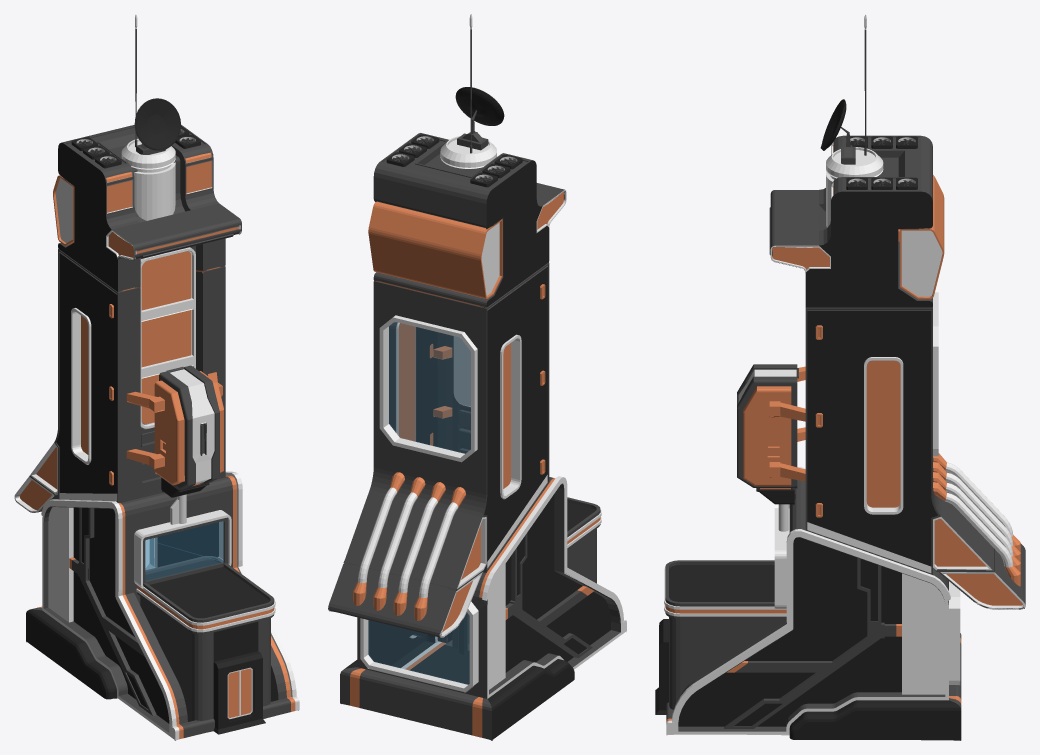
Rendered from Science building.fbx.
3 views of the same model, side by side, from view 1: azimuth 30°, elevation 25°; view 2: azimuth 150°, elevation 25°; view 3: azimuth 270°, elevation 25° (orthographic). The views are drawn at different scales.
Parts seen in each view (by area): view 1: Cube.013, Cube.012, Cube.001, Cube.020, door.006; view 2: Cube.013, Cube.020, Plane.001, Cube.001, Cube.012; view 3: Cube.013, Cube.012, Cube, Plane.001, Cube.020.
Part boxes in pixels (x1,y1,x2,y2): Cube.013: [14, 14, 299, 740]; Cube.012: [136, 556, 275, 734]; Cube.001: [69, 508, 156, 715]; Cube.020: [53, 175, 74, 245]; door.006: [227, 667, 252, 719]; Cube.013: [328, 14, 626, 740]; Cube.020: [368, 201, 502, 298]; Plane.001: [353, 472, 465, 620]; Cube.001: [505, 533, 593, 658]; Cube.012: [458, 497, 601, 654]; Cube.013: [666, 14, 1025, 740]; Cube.012: [655, 560, 786, 714]; Cube: [724, 557, 901, 728]; Plane.001: [933, 453, 1020, 586]; Cube.020: [898, 175, 944, 299].
Size of what is drawn, in the model's own units: 1.26 by 5.36 by 2.62.
